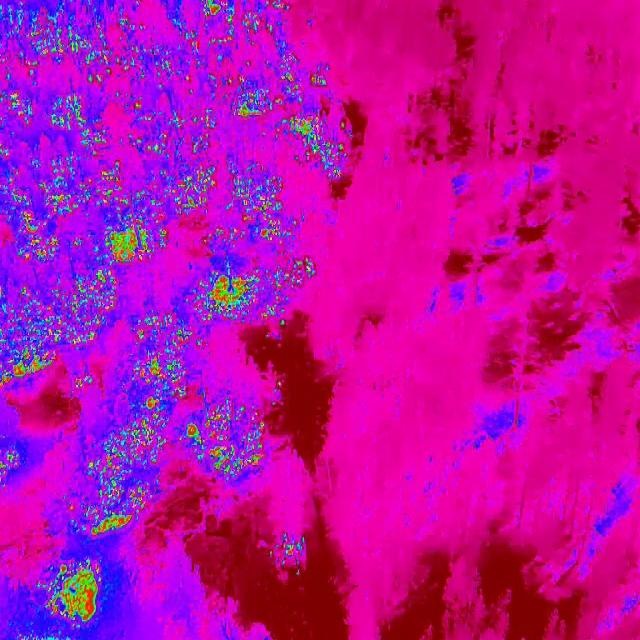fire: (225, 46, 352, 182), (0, 266, 121, 394), (82, 402, 168, 540), (179, 254, 319, 330), (106, 0, 201, 90), (177, 400, 273, 482), (0, 88, 111, 153), (1, 23, 109, 88), (7, 150, 122, 210), (132, 311, 195, 413), (225, 172, 302, 248), (95, 194, 170, 268), (130, 94, 218, 157), (38, 558, 106, 630), (202, 0, 293, 49), (161, 159, 219, 217), (13, 213, 74, 265), (268, 530, 305, 575), (0, 444, 20, 484), (206, 223, 242, 244), (273, 379, 285, 393)
